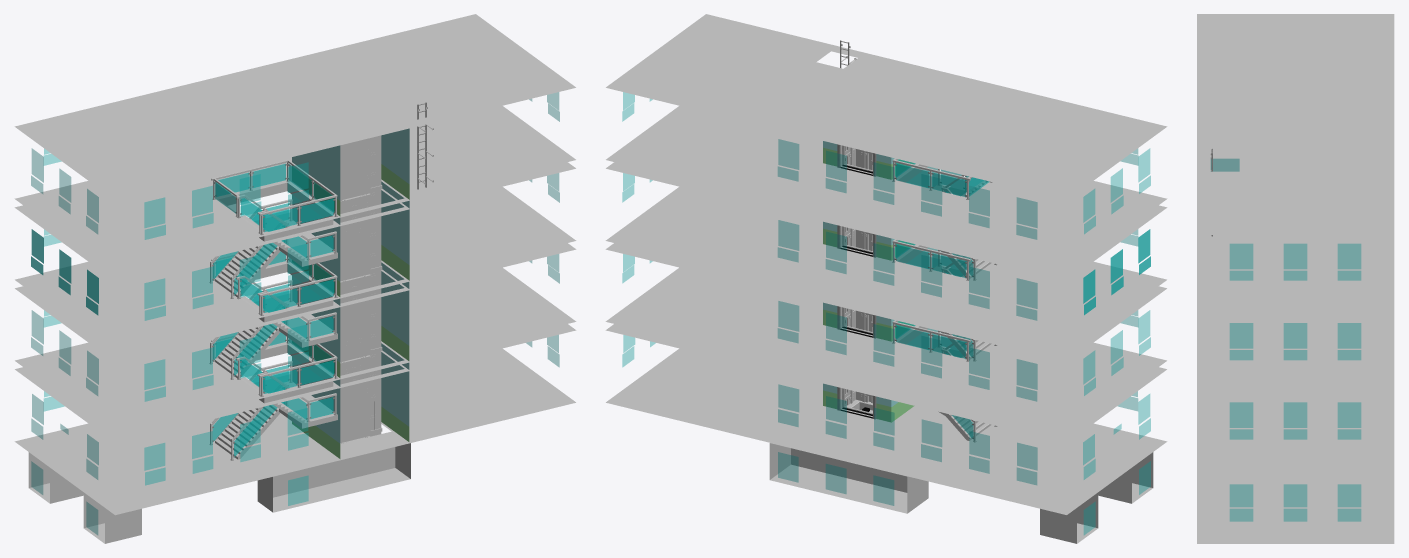
File: SM_Building10_V1_Interior.fbx
3 views of the same model, side by side, from view 1: azimuth 30°, elevation 25°; view 2: azimuth 150°, elevation 25°; view 3: azimuth 270°, elevation 25° (orthographic).
Visible parts, largest first — view 1: SM_Building10_V1_Interior; view 2: SM_Building10_V1_Interior; view 3: SM_Building10_V1_Interior.
Part boxes in pixels (left/top/right/bottom): SM_Building10_V1_Interior: left=14, top=14, right=576, bottom=543; SM_Building10_V1_Interior: left=605, top=14, right=1167, bottom=543; SM_Building10_V1_Interior: left=1197, top=14, right=1394, bottom=543.
Size of the model in its own units: 2421 by 1839 by 920.
